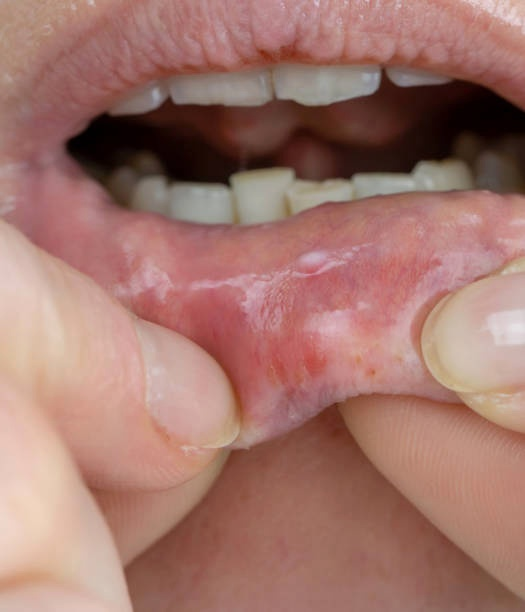Ulcer: (294, 240, 339, 268)
